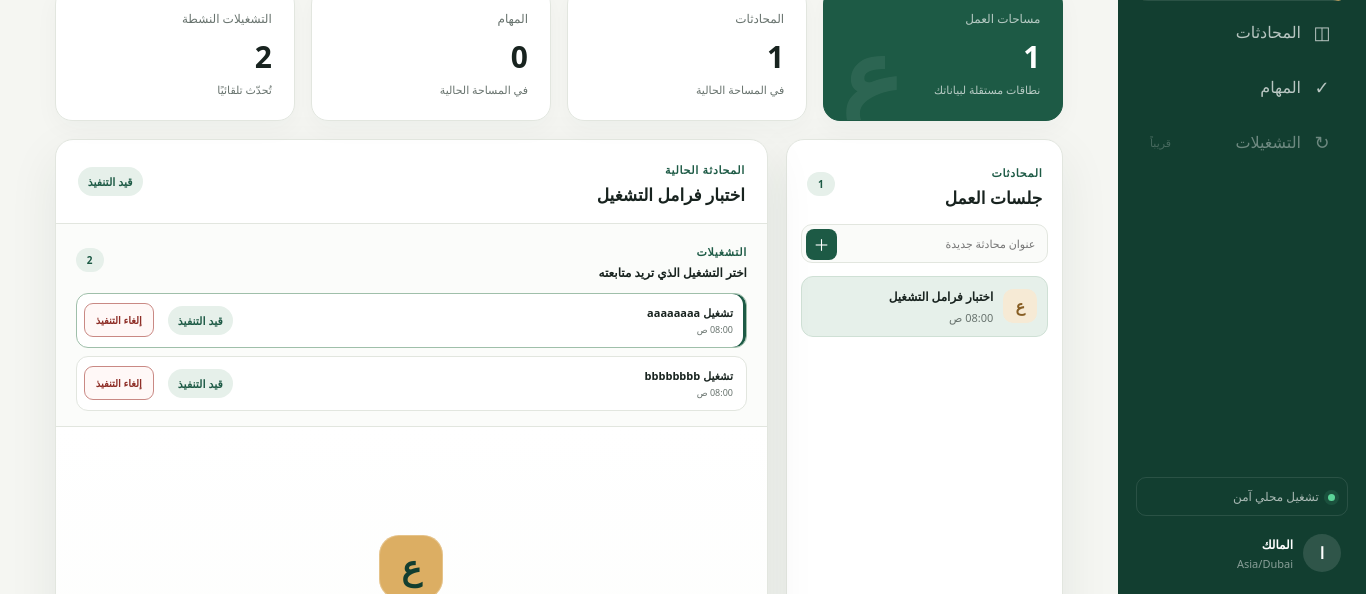
it: FC-002 cancellation dashboard › keeps details keyed to the selected run when responses arrive in reverse order
This screenshot has width=1366, height=594.
Click the button "تشغيل bbbbbbbb 08:00 ص قيد التنفيذ".
click(717, 375)  # box 162,364 -> 739,402
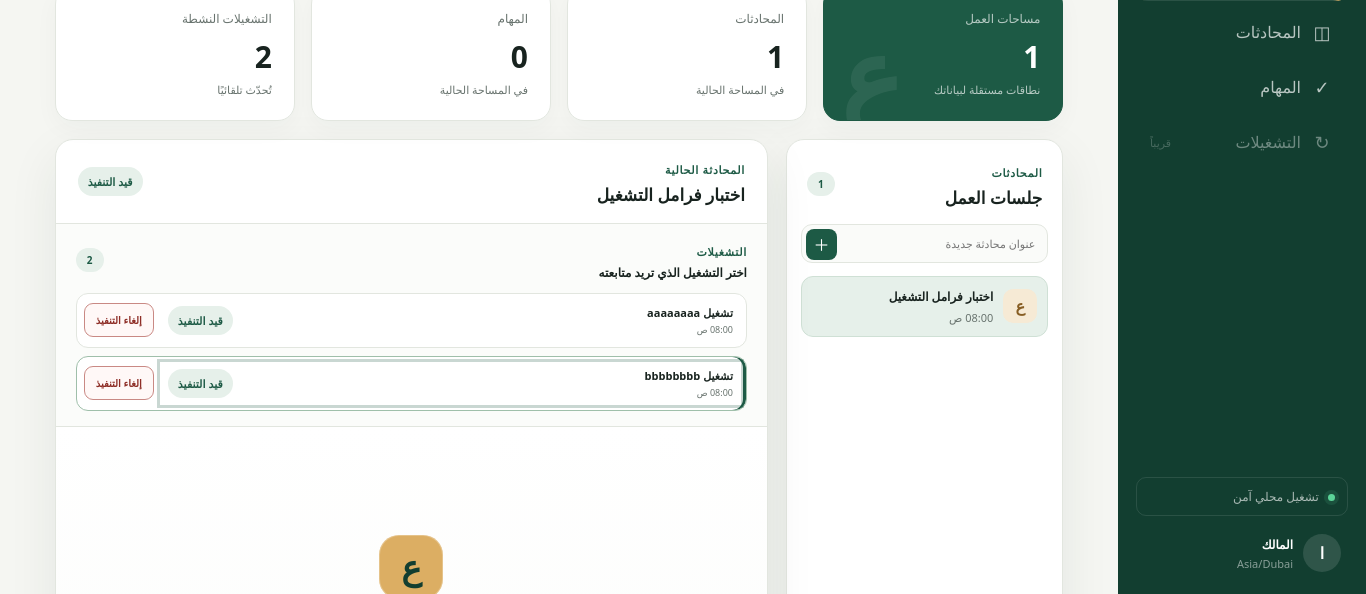
Click the button "تشغيل aaaaaaaa 08:00 ص قيد التنفيذ".
click(717, 312)  # box 162,300 -> 739,340
(page scrolled)
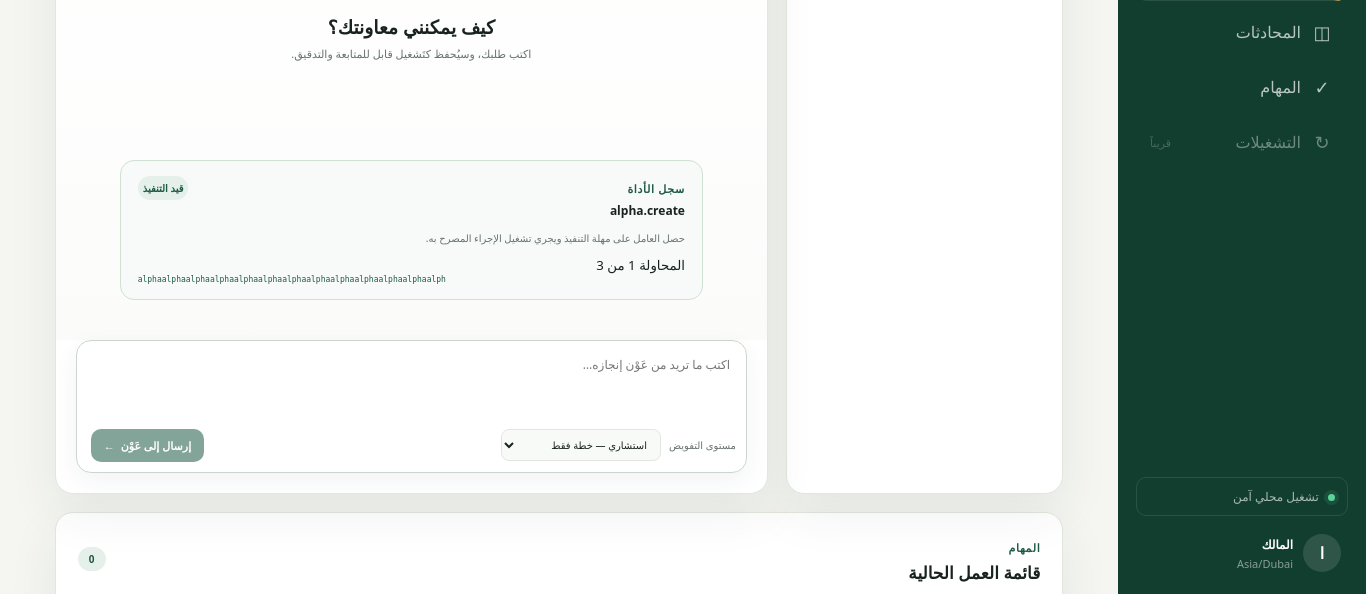
Result: the heading "alpha.create" is shown at 610,202 -> 685,218
